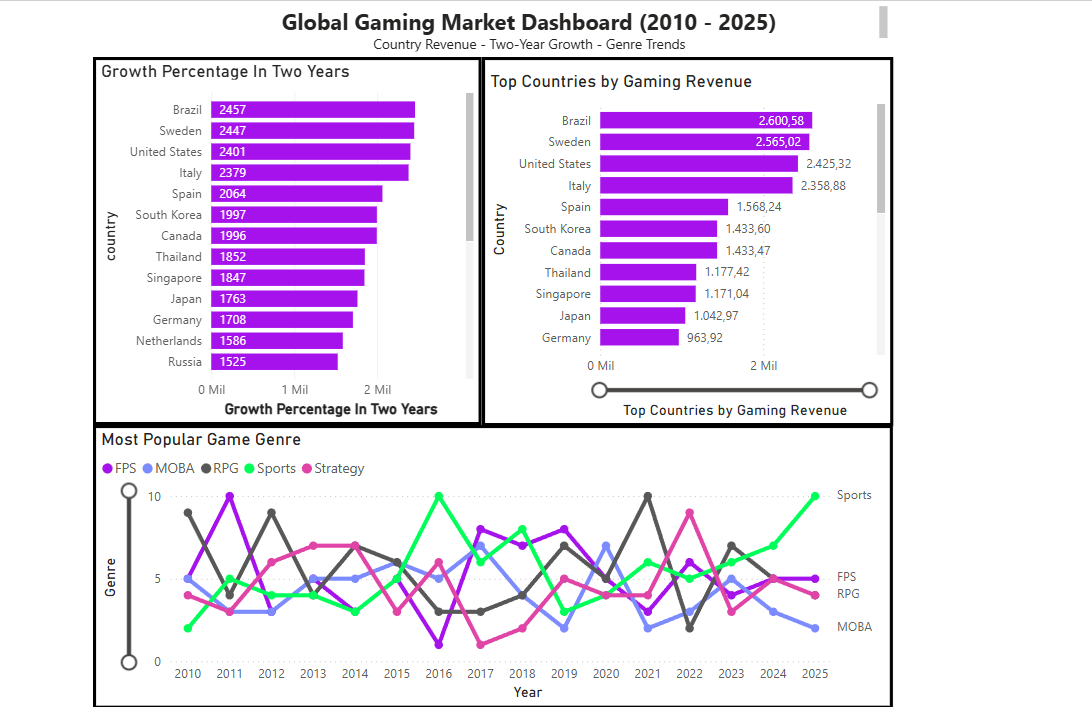

This screenshot's page, from the dashboard's own definition file:
{"tool":"powerbi","page":{"name":"Página 1","canvas":[1280,720],"ordinal":0},"visuals":[{"type":"barChart","title":"Growth Percentage In Two Years","fields":{"Y":["TwoYears.Two Years Growth"],"Category":["TwoYears.country"]},"box":[261.6,86.6,378.4,357.9],"z":0},{"type":"barChart","title":"Top Countries by Gaming Revenue","fields":{"Category":["TotalGrowthPercentage.Country"],"Y":["Sum(TotalGrowthPercentage.EarningPercentage)"]},"box":[640,86.6,399.8,358.9],"z":1000},{"type":"lineChart","title":"Most Popular Game Genre","fields":{"Category":["TopGenre.Year"],"Y":["TopGenre.TopGenreCount"],"Series":["TopGenre.Top_Genre"]},"box":[261.6,444.5,778.1,276.2],"z":2000},{"type":"textbox","box":[340.4,32.1,699.3,54.5],"z":2001}]}

Visuals, with their boxes on the page's 1280x720 design canvas (x1, y1, x2, y2). These are canvas units, not pixel positions in the 1092x707 screenshot, which may show the page scaled, cropped or inside an application window:
"Growth Percentage In Two Years" barChart: [262, 87, 640, 444]
"Top Countries by Gaming Revenue" barChart: [640, 87, 1040, 446]
"Most Popular Game Genre" lineChart: [262, 444, 1040, 721]
textbox: [340, 32, 1040, 87]
